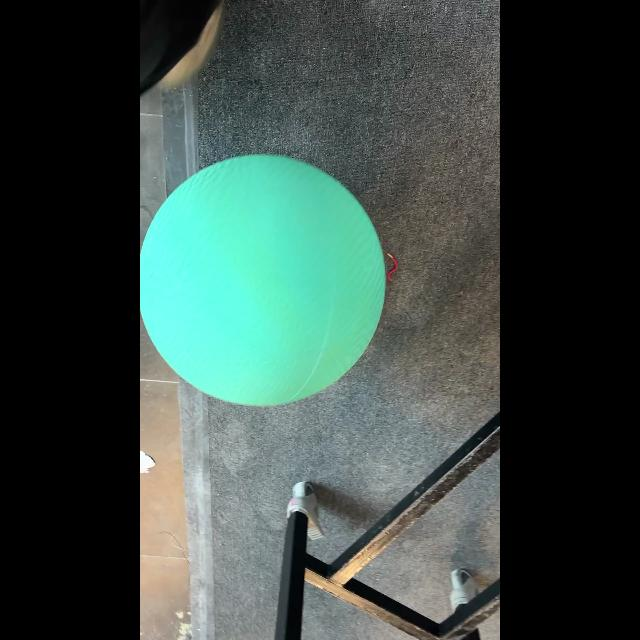ALGAE: (141, 154, 387, 408)
